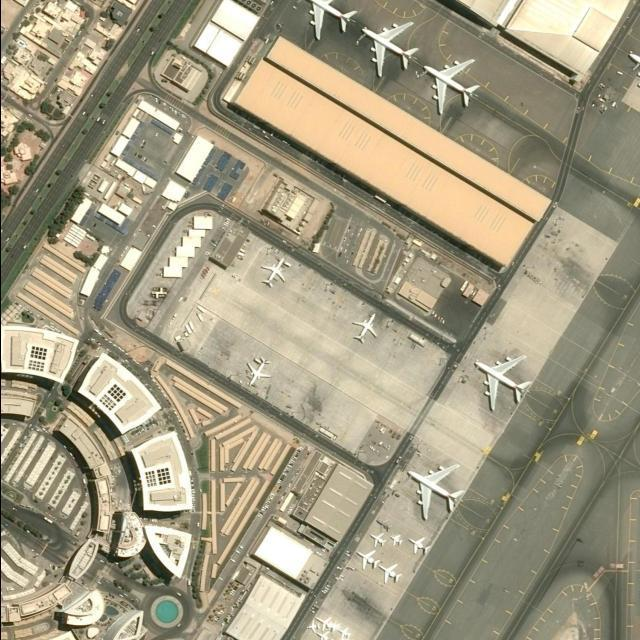Aircraft: (422, 57, 479, 117), (472, 354, 530, 412), (405, 465, 463, 521), (360, 21, 416, 77), (305, 1, 356, 43), (260, 257, 286, 289), (243, 357, 270, 387), (351, 313, 377, 344), (355, 550, 379, 570), (377, 564, 401, 584), (407, 538, 431, 556), (315, 616, 333, 632), (374, 519, 390, 533), (369, 534, 385, 548), (337, 627, 351, 640), (388, 535, 402, 547), (305, 621, 319, 633), (316, 632, 332, 640)
